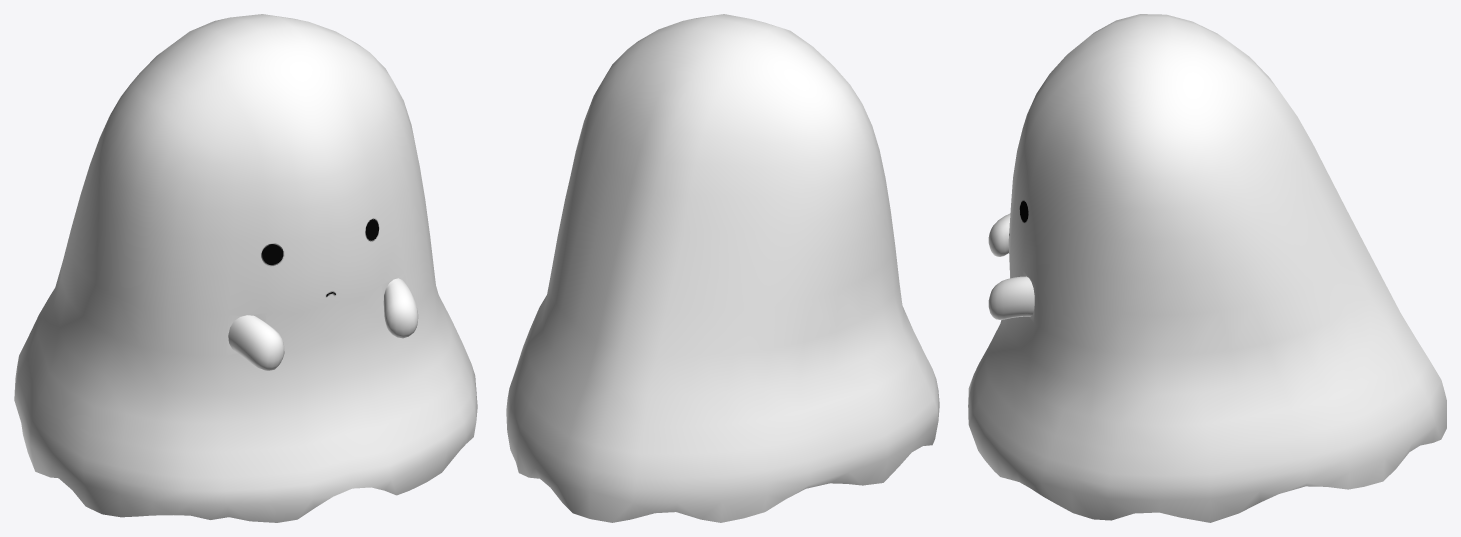
Rendered from obake.fbx.
The picture shows the model from 3 angles, left to right: view 1: azimuth 30°, elevation 25°; view 2: azimuth 150°, elevation 25°; view 3: azimuth 270°, elevation 25°; orthographic projection. The views are drawn at different scales.
Visible parts, largest first — view 1: body, arm; view 2: body; view 3: body, arm.
Part boxes in pixels (x1=…): body: x1=14, y1=14, x2=477, y2=522; arm: x1=228, y1=278, x2=418, y2=370; body: x1=506, y1=14, x2=939, y2=522; body: x1=968, y1=14, x2=1446, y2=522; arm: x1=988, y1=213, x2=1034, y2=319.
Bounding box in the file's own units: 67.74 × 68.09 × 73.14.
